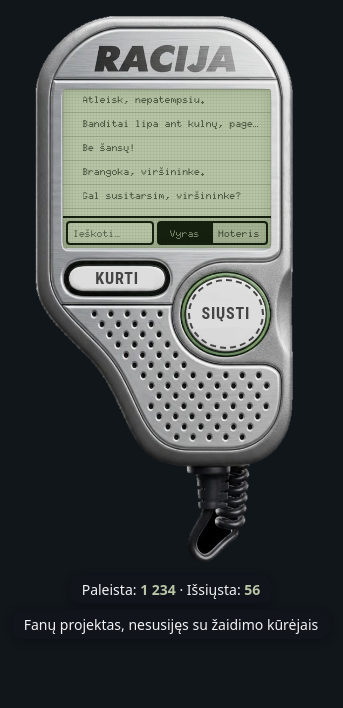
Radio › share › fetch-error: message, no count
This screenshot has width=343, height=708.
Click the option "Atleisk, nepatempsiu." at (167, 101), box [62, 89, 271, 113]
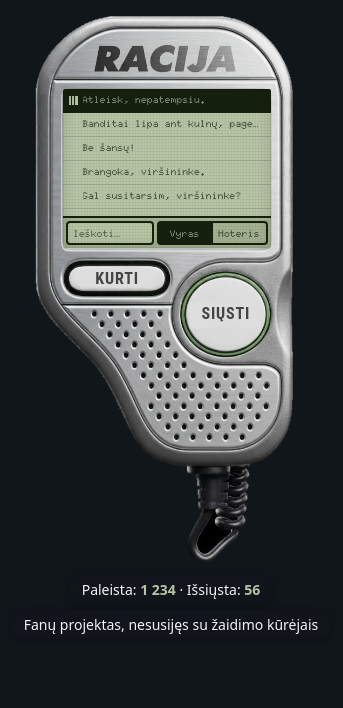
Click the button with class "skey" showing "SIŲSTI" at (226, 315), box [182, 273, 270, 356]
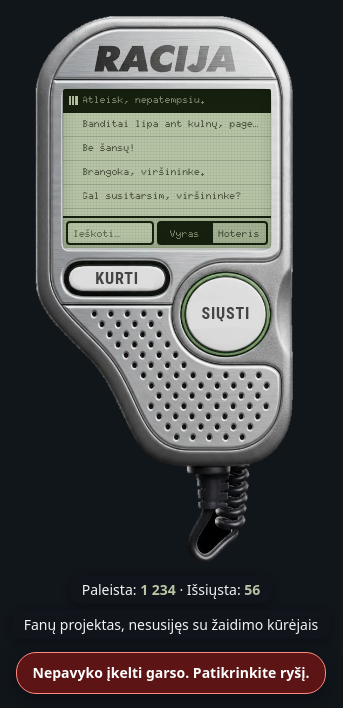
Expected: the text with class "toast" reads "Nepavyko įkelti garso. Patikrinkite ryšį.", [32, 663, 309, 682]
